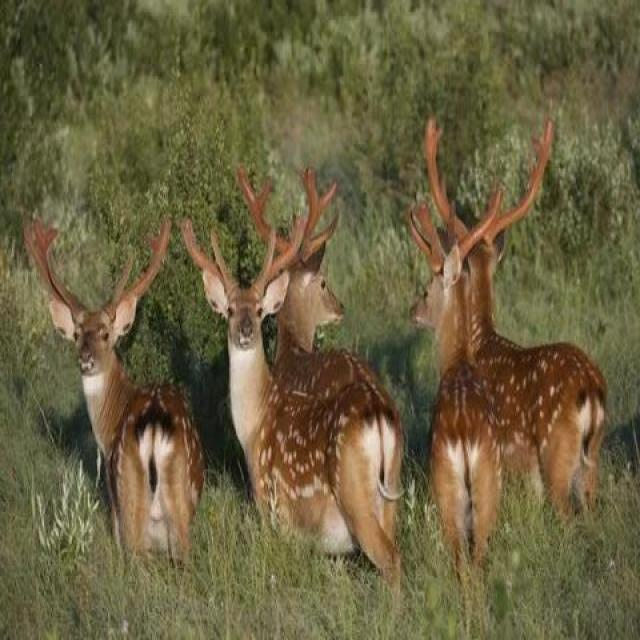deer: (178, 239, 460, 588), (366, 115, 582, 530), (42, 248, 236, 508), (215, 213, 364, 502), (416, 299, 544, 544)
